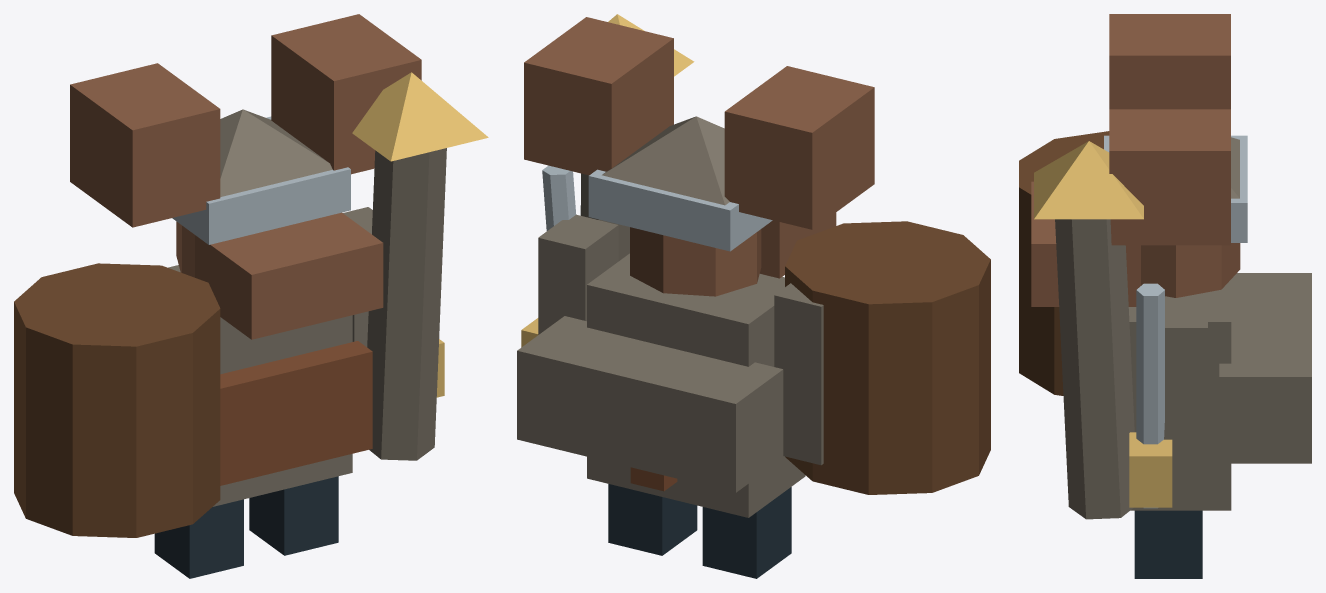
Rendered from club-fighter.obj.
3 views of the same model, side by side, from view 1: azimuth 30°, elevation 25°; view 2: azimuth 150°, elevation 25°; view 3: azimuth 270°, elevation 25° (orthographic). The views are drawn at different scales.
Visible parts, largest first — view 1: infantry; view 2: infantry; view 3: infantry.
Part boxes in pixels (left/top/right/bottom): infantry: left=14, top=14, right=488, bottom=578; infantry: left=517, top=14, right=990, bottom=578; infantry: left=1019, top=14, right=1311, bottom=578.
Bounding box in the file's own units: 1.66 × 1.76 × 1.01.
